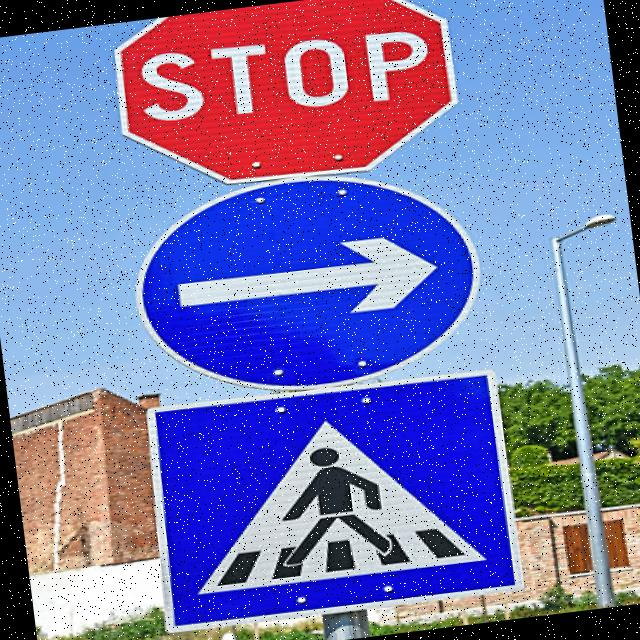compulsory_keep_right: (129, 154, 506, 414)
